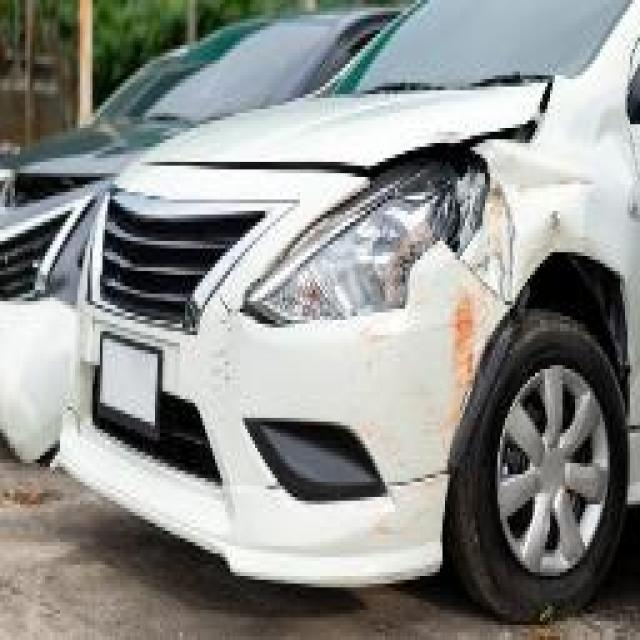Bonnet: (133, 86, 549, 182)
Bumper: (224, 251, 531, 605)
Light: (244, 137, 493, 334)
